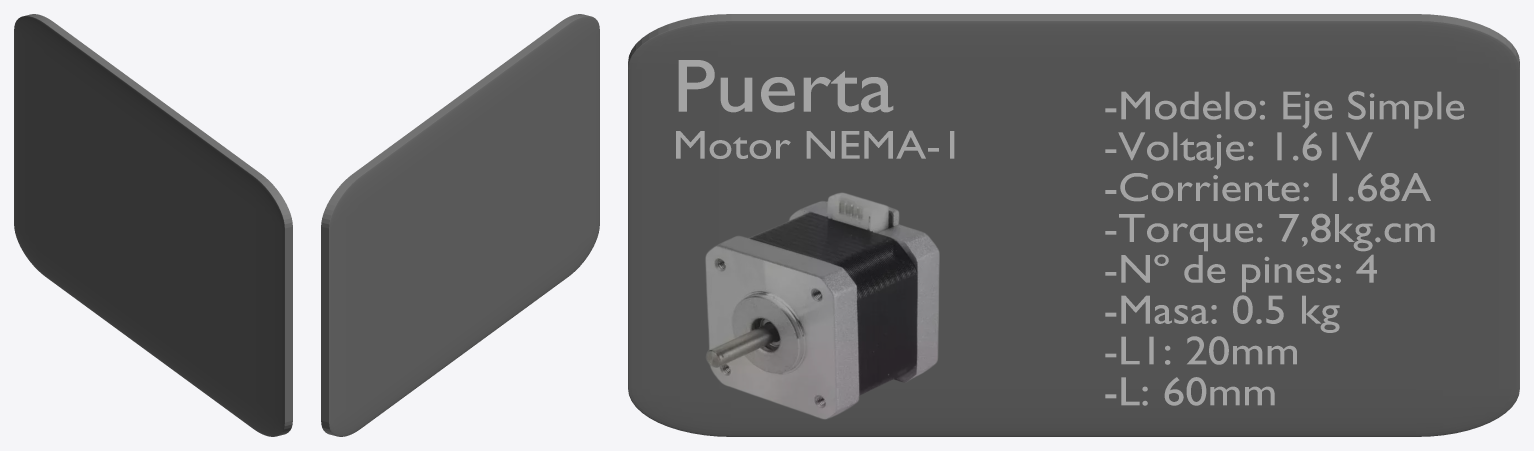
File: HouseDoorAdvertisement.glb
3 renders of one model, left to right at view 1: azimuth 30°, elevation 25°; view 2: azimuth 150°, elevation 25°; view 3: azimuth 270°, elevation 25°, orthographic. The views are drawn at different scales.
Parts seen in each view (by area): view 1: Cube; view 2: Cube; view 3: Cube, MotorNEMA17, Text.002, Text, Text.001.
Boxes of the visible parts, box(x1,y1,x2,y2) form: Cube: box(14, 14, 292, 436); Cube: box(321, 14, 599, 436); Cube: box(628, 14, 1519, 436); MotorNEMA17: box(705, 192, 939, 419); Text.002: box(1105, 91, 1464, 405); Text: box(678, 60, 893, 112); Text.001: box(676, 130, 954, 158).
Bounding box in the file's own units: 0.32 × 2.93 × 5.7.
Materials: 5 (1 with a texture image).
